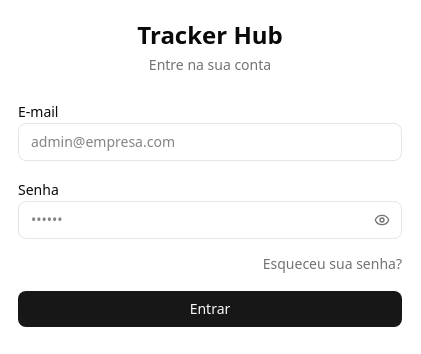
it: LoginPage › e-mail inválido → erro client-side sem request HTTP
Step 1. Type "invalido" into the field labelled "E-mail" → (210, 142), box [18, 123, 402, 161]
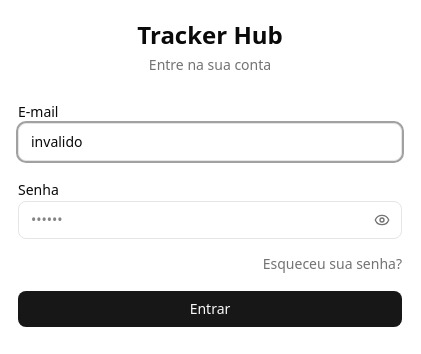
Step 2. Press Tab
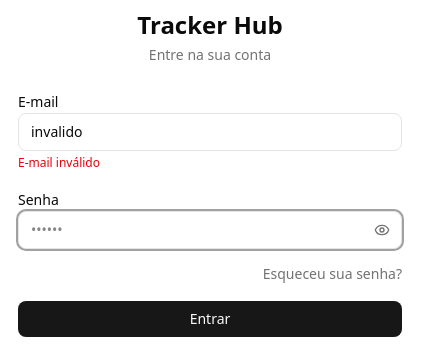
expect the message reads "E-mail inválido": met, box [18, 154, 100, 171]
